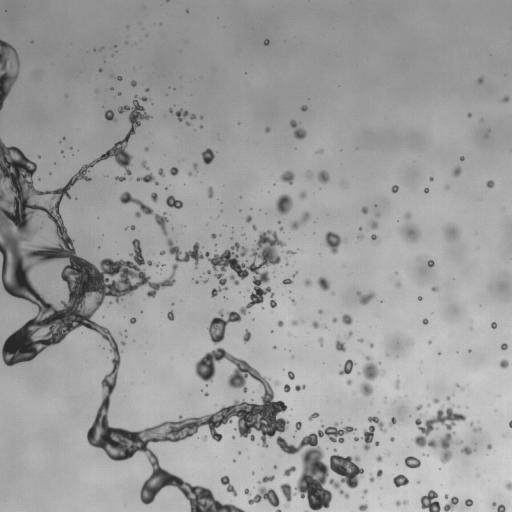droplet: (276, 422, 364, 511), (413, 405, 465, 463), (420, 489, 458, 511), (361, 416, 385, 450), (325, 231, 342, 253), (276, 194, 292, 214), (401, 224, 418, 242), (339, 359, 355, 375), (356, 291, 374, 304), (444, 225, 458, 240), (201, 148, 214, 164), (166, 195, 182, 208), (393, 474, 408, 487), (404, 456, 420, 468), (280, 171, 294, 184), (317, 277, 330, 290), (318, 170, 329, 183), (176, 109, 188, 120), (342, 313, 352, 325), (283, 466, 295, 476), (104, 110, 115, 120), (335, 340, 345, 351), (461, 446, 473, 455), (243, 330, 251, 342), (308, 412, 318, 420), (141, 160, 149, 169), (453, 167, 461, 176), (499, 360, 508, 368), (170, 167, 178, 175), (369, 221, 377, 229), (283, 278, 292, 285), (389, 417, 396, 426), (358, 504, 367, 511), (295, 421, 301, 431), (486, 180, 494, 187), (391, 185, 398, 193), (311, 321, 319, 328), (465, 499, 473, 506), (151, 193, 157, 202), (167, 311, 173, 320), (505, 481, 511, 490), (208, 187, 213, 197), (427, 260, 434, 267), (304, 278, 311, 285), (116, 175, 124, 181), (288, 371, 294, 379), (284, 384, 290, 392), (376, 469, 382, 477), (318, 337, 323, 346), (501, 343, 507, 350), (477, 77, 483, 83), (502, 96, 508, 102), (301, 105, 307, 111), (300, 192, 306, 198), (371, 234, 377, 240), (422, 318, 428, 324), (416, 404, 422, 410), (158, 169, 163, 176), (246, 215, 251, 222), (131, 80, 136, 86), (362, 207, 367, 213), (405, 213, 410, 219), (130, 317, 135, 323), (278, 320, 283, 326), (291, 320, 297, 325), (491, 322, 496, 328), (347, 331, 352, 337), (346, 379, 351, 385), (486, 444, 492, 449), (376, 456, 382, 461), (369, 476, 374, 482), (287, 250, 294, 254), (141, 96, 146, 101), (190, 114, 195, 119), (265, 127, 270, 132), (433, 398, 438, 403), (265, 40, 269, 45), (117, 76, 122, 80), (193, 163, 197, 168), (424, 188, 428, 193), (252, 225, 256, 230), (211, 233, 215, 238), (160, 250, 165, 254), (293, 271, 297, 276), (432, 287, 437, 291), (318, 309, 322, 314), (332, 318, 337, 322), (358, 338, 363, 342), (446, 396, 450, 401), (354, 436, 358, 441), (374, 441, 379, 445), (144, 147, 148, 151), (460, 156, 464, 160), (369, 343, 373, 347), (275, 381, 279, 385), (390, 437, 394, 441), (458, 440, 462, 444), (363, 489, 367, 493), (318, 150, 323, 153), (307, 172, 310, 176), (429, 177, 433, 180), (131, 225, 134, 229), (418, 296, 421, 300), (291, 299, 294, 303), (121, 342, 125, 345), (203, 437, 206, 441), (276, 509, 281, 511), (169, 109, 172, 112), (468, 113, 471, 116), (186, 122, 189, 125), (280, 227, 283, 230), (156, 263, 159, 266), (205, 393, 208, 396), (273, 465, 276, 468), (146, 88, 148, 91), (359, 227, 361, 230), (207, 271, 210, 273), (273, 346, 276, 348), (438, 352, 440, 355), (427, 404, 430, 406), (99, 69, 101, 71), (278, 221, 280, 223), (359, 235, 361, 237), (204, 280, 206, 282), (397, 284, 399, 286), (331, 292, 333, 294), (384, 399, 386, 401), (334, 449, 336, 451), (388, 452, 390, 454)
ligament: (0, 108, 288, 511), (120, 192, 167, 235), (0, 40, 19, 109), (360, 356, 383, 396), (244, 487, 279, 506), (220, 476, 237, 496), (291, 212, 309, 229), (290, 120, 306, 139), (136, 173, 158, 184), (258, 475, 274, 483), (492, 502, 505, 511), (469, 422, 479, 432), (396, 500, 408, 505), (295, 385, 305, 390), (395, 380, 399, 389), (456, 384, 461, 389), (509, 421, 511, 427), (166, 0, 169, 1)
